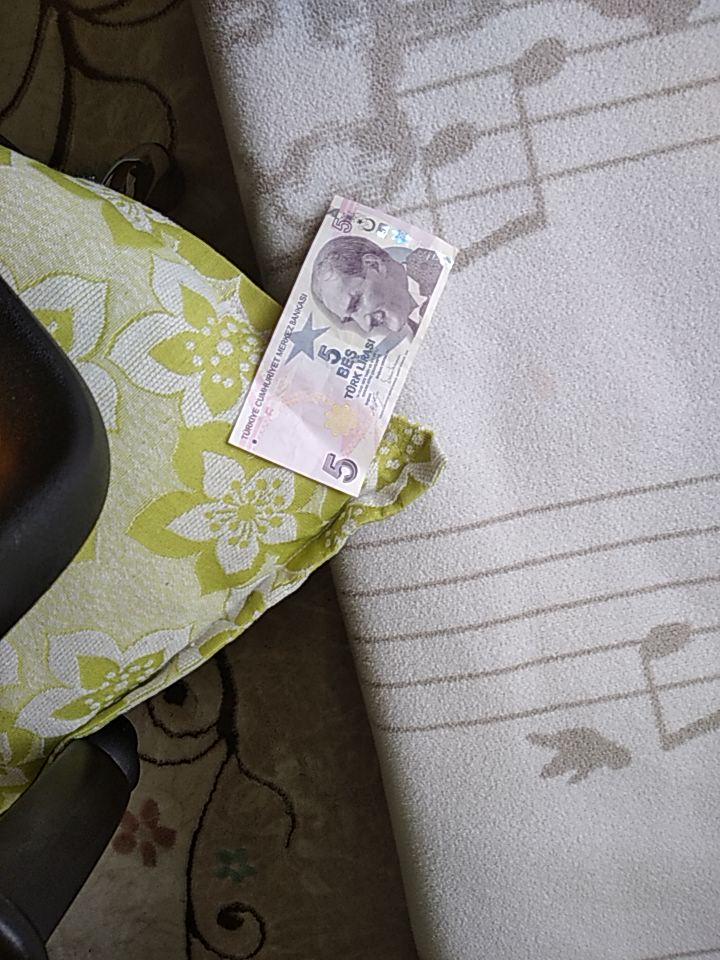5TL: (226, 193, 460, 499)
